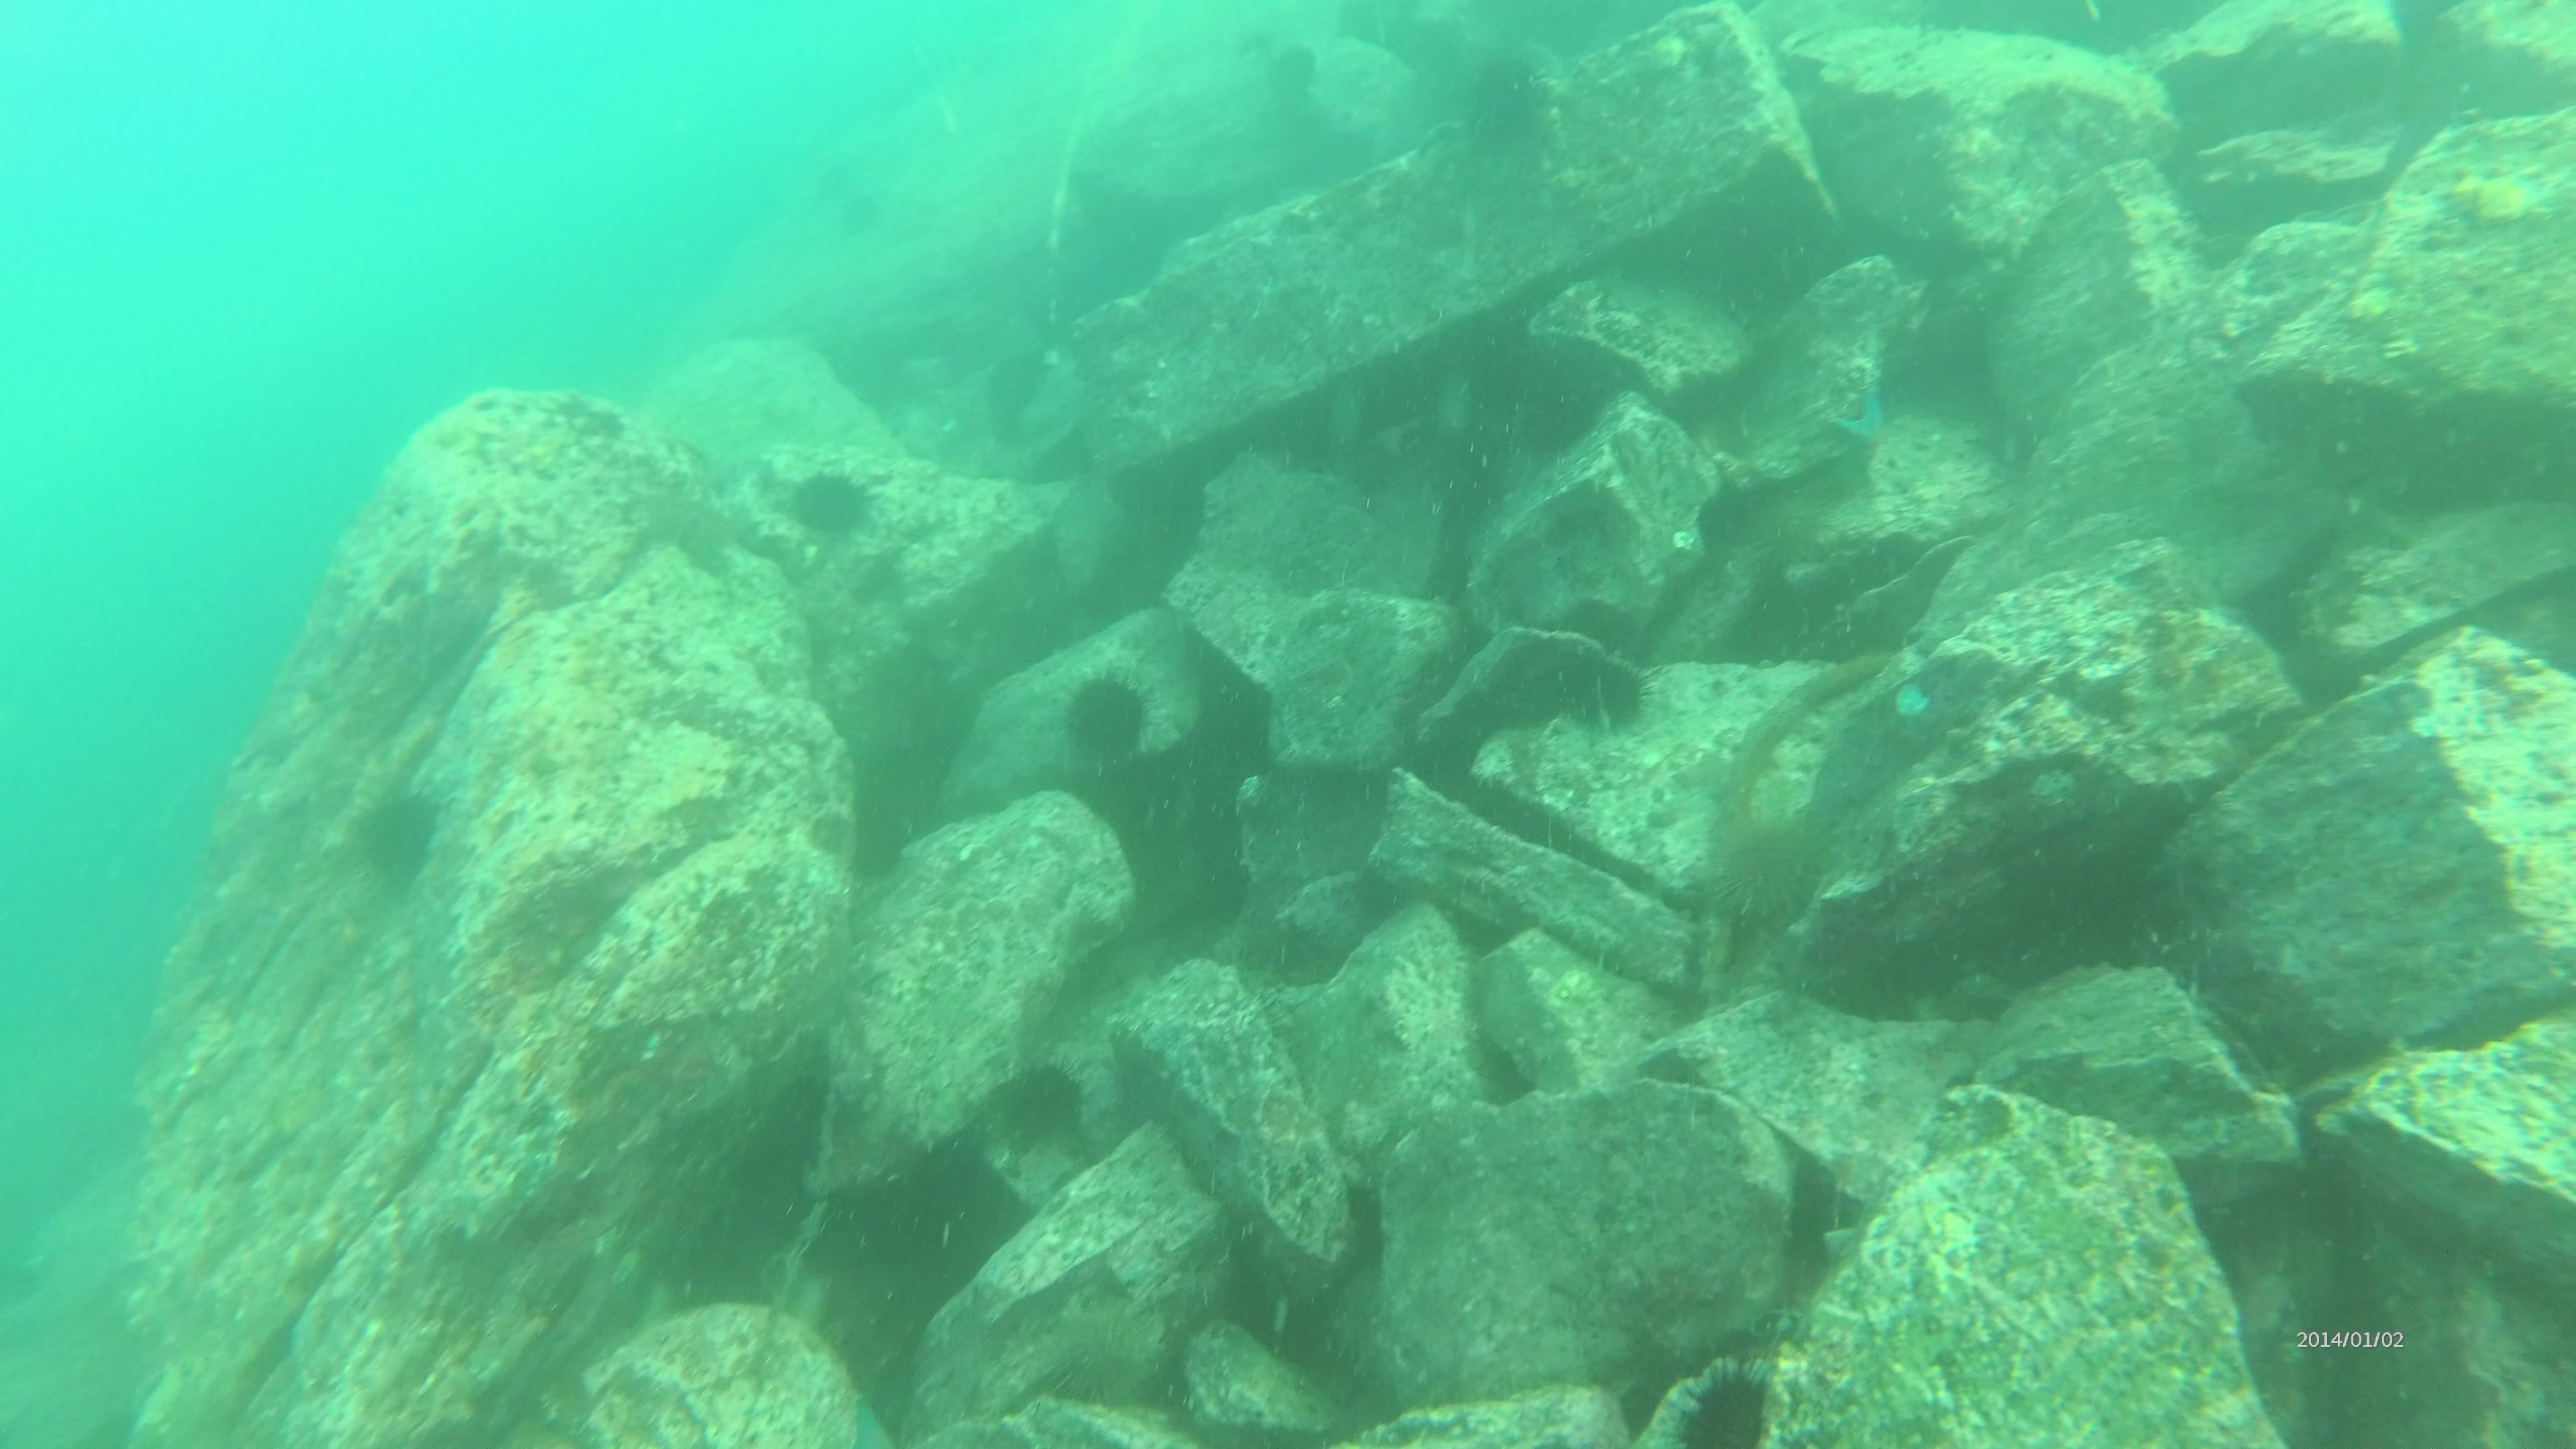echinus: (1019, 1288, 1178, 1415), (1702, 807, 1836, 932), (1649, 1355, 1790, 1447), (345, 780, 449, 893), (1054, 665, 1161, 775), (989, 1053, 1093, 1155), (1552, 644, 1658, 740), (780, 460, 883, 550), (1453, 46, 1555, 113), (1458, 101, 1545, 159), (1269, 35, 1323, 85), (842, 184, 893, 230), (814, 165, 853, 195)
starfish: (1824, 375, 1900, 460)
